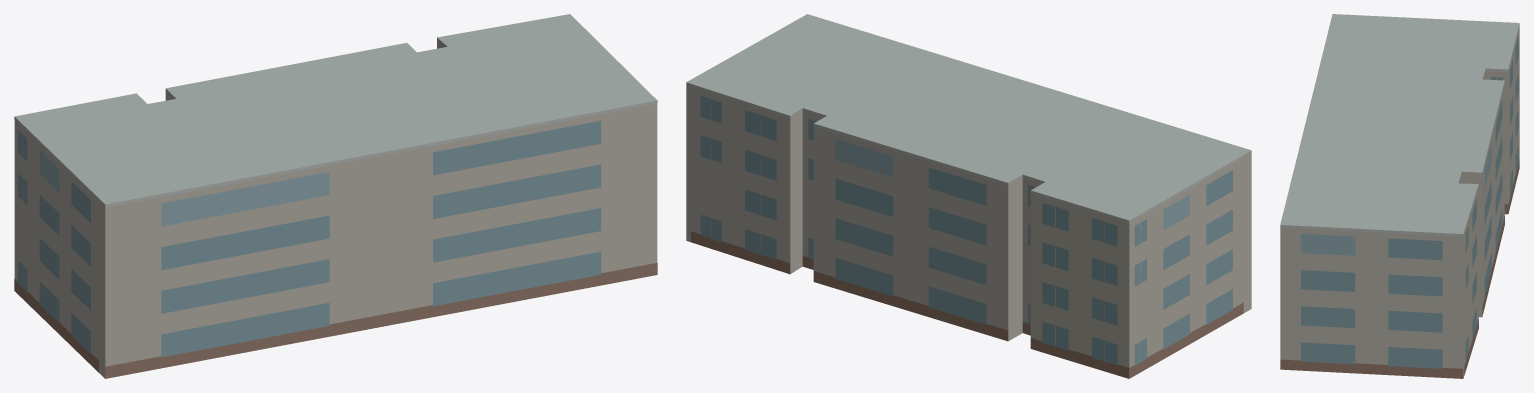
The model's file is survey-upis-32497575.glb.
3 renders of one model, left to right at view 1: azimuth 30°, elevation 25°; view 2: azimuth 150°, elevation 25°; view 3: azimuth 270°, elevation 25°, orthographic. The views are drawn at different scales.
Visible parts, largest first — view 1: survey-upis-32497575.tmp; view 2: survey-upis-32497575.tmp; view 3: survey-upis-32497575.tmp.
Part boxes in pixels (bbox=[...]): survey-upis-32497575.tmp: bbox=[14, 14, 657, 378]; survey-upis-32497575.tmp: bbox=[686, 14, 1251, 378]; survey-upis-32497575.tmp: bbox=[1280, 14, 1519, 378].
Size of the model in its own units: 43.55 by 13.35 by 20.03.
